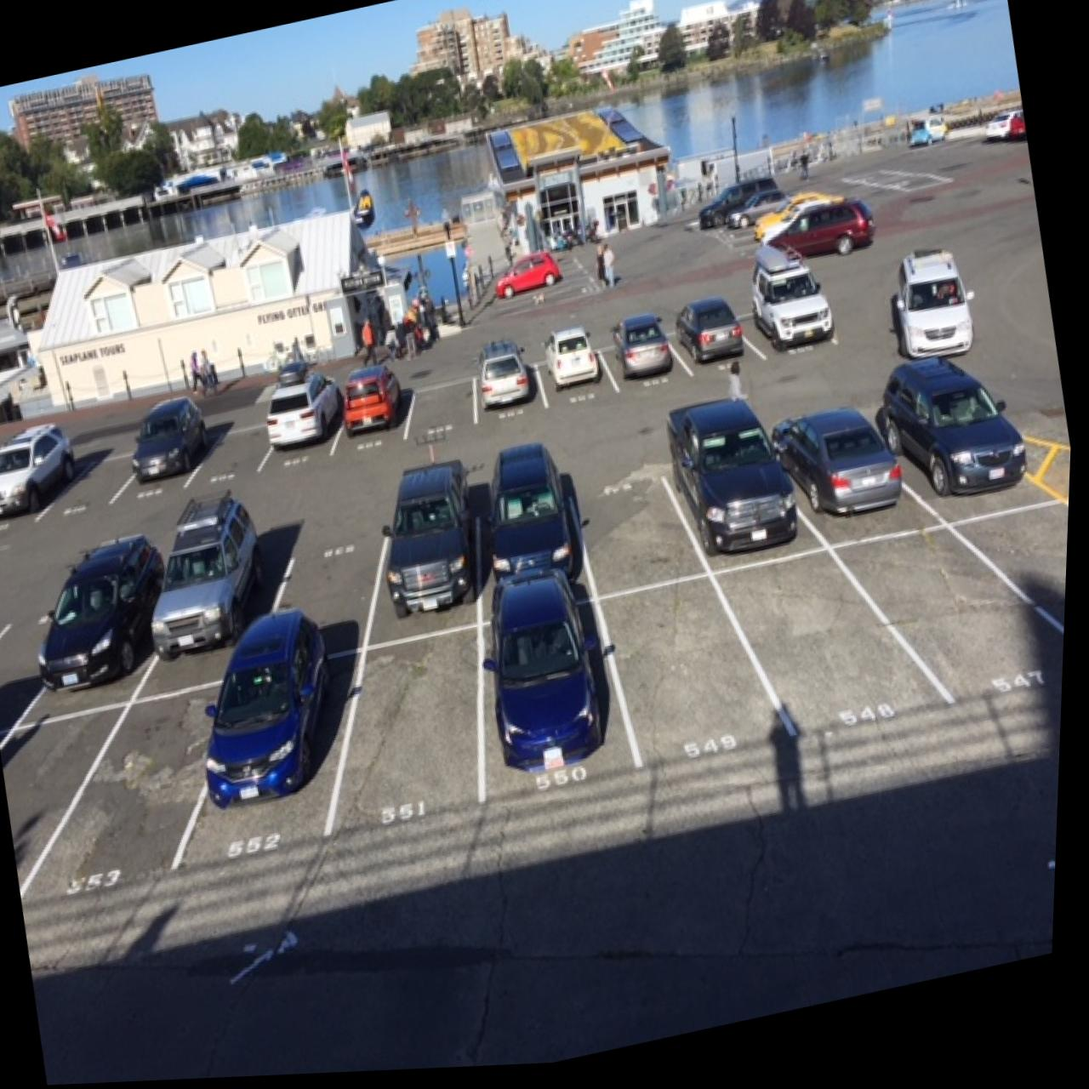cars: (461, 576, 645, 792), (0, 528, 189, 726), (197, 622, 356, 854), (133, 495, 293, 669), (447, 445, 604, 610), (652, 414, 813, 574), (770, 394, 925, 548), (884, 360, 1021, 527), (363, 456, 500, 623), (730, 266, 843, 383), (0, 410, 92, 542), (115, 393, 220, 500), (660, 282, 758, 392), (258, 383, 356, 482), (590, 302, 680, 407), (325, 356, 414, 461), (523, 319, 607, 420), (458, 337, 549, 430)
empty: (847, 492, 1061, 730), (713, 524, 918, 762), (62, 654, 239, 882), (592, 560, 773, 782), (337, 620, 508, 829), (244, 487, 416, 652), (546, 435, 717, 597), (37, 415, 152, 526), (386, 351, 483, 450), (184, 402, 279, 495)
